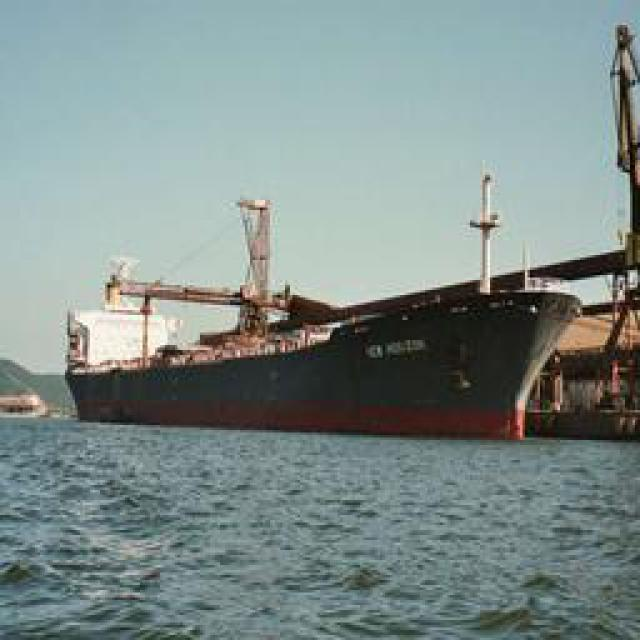Ship: (61, 177, 596, 435)
